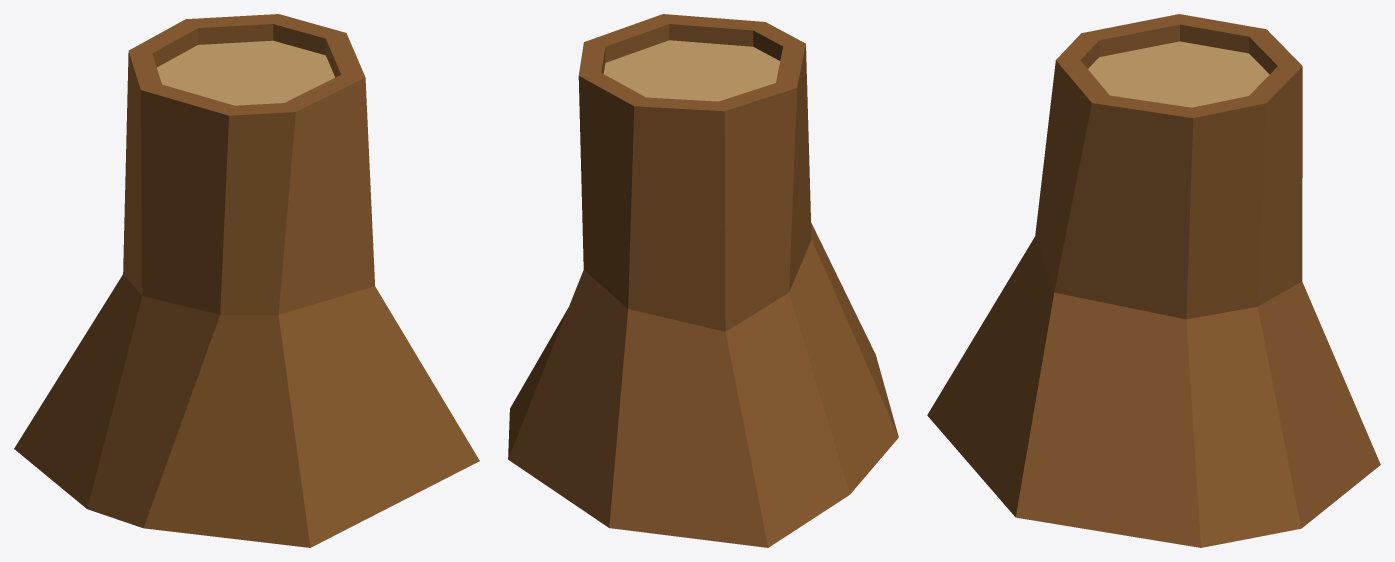
File: AkarPohon2.fbx
The picture shows the model from 3 angles, left to right: view 1: azimuth 30°, elevation 25°; view 2: azimuth 150°, elevation 25°; view 3: azimuth 270°, elevation 25°; orthographic projection. The views are drawn at different scales.
Visible parts, largest first — view 1: stump_1a; view 2: stump_1a; view 3: stump_1a.
Part boxes in pixels (x1,y1,x2,y2): stump_1a: (14,14,479,547); stump_1a: (508,14,898,547); stump_1a: (927,14,1380,547).
Size of the model in its own units: 84.77 by 98.37 by 97.71.
